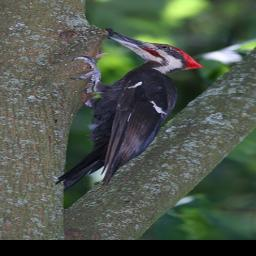Woodpecker: (55, 30, 205, 191)
